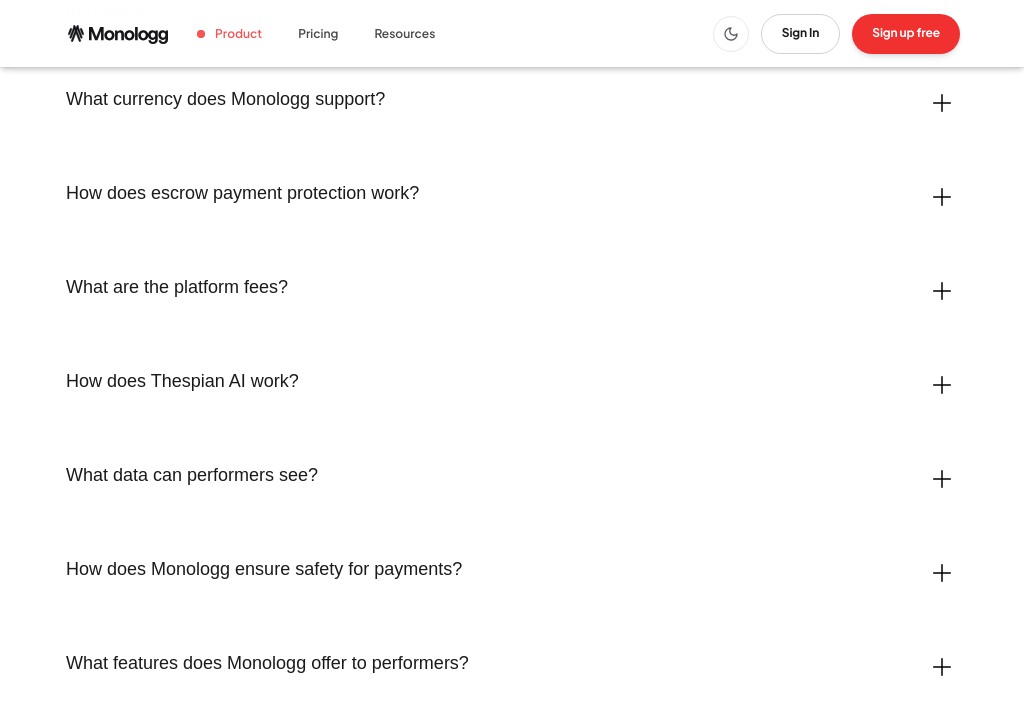
ProductPage (Figma 178359:17305) › renders 10 FAQ accordion items and expands on click
The width and height of the screenshot is (1024, 721).
(page scrolled)
# Click item 4: "How does Thespian AI work?"
Step 1. Click the button "How does Thespian AI work?" → (182, 381), box top-left (66, 369), bottom-right (958, 401)
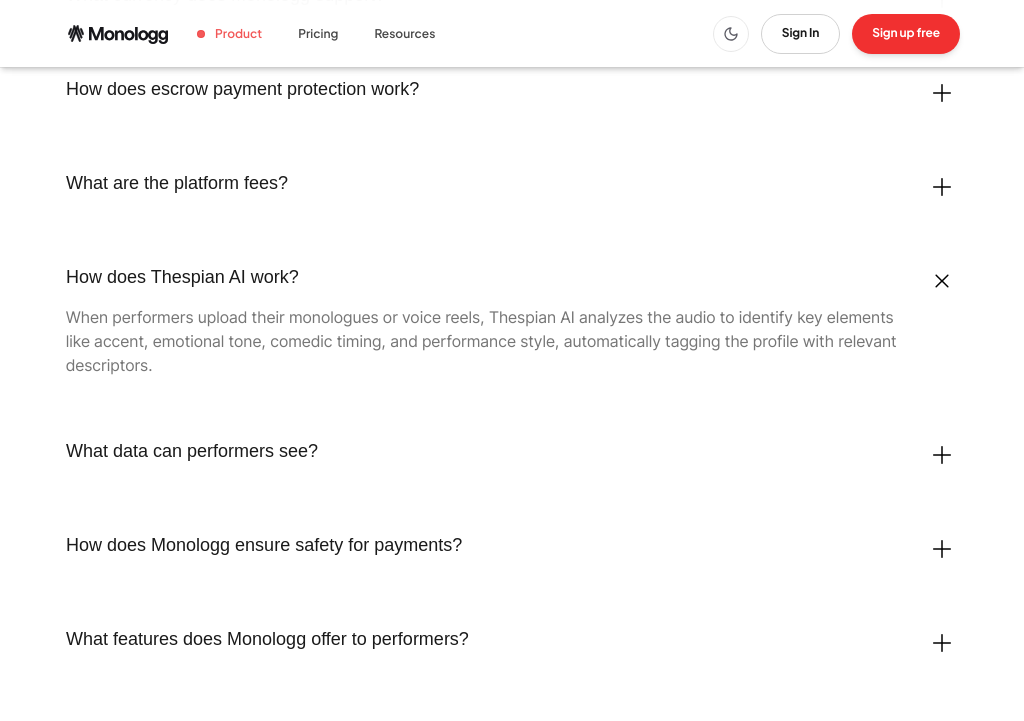
Check: the text "When performers upload their monologues or voice reels, Thespian AI analyzes" is shown, box top-left (66, 307), bottom-right (897, 375)
